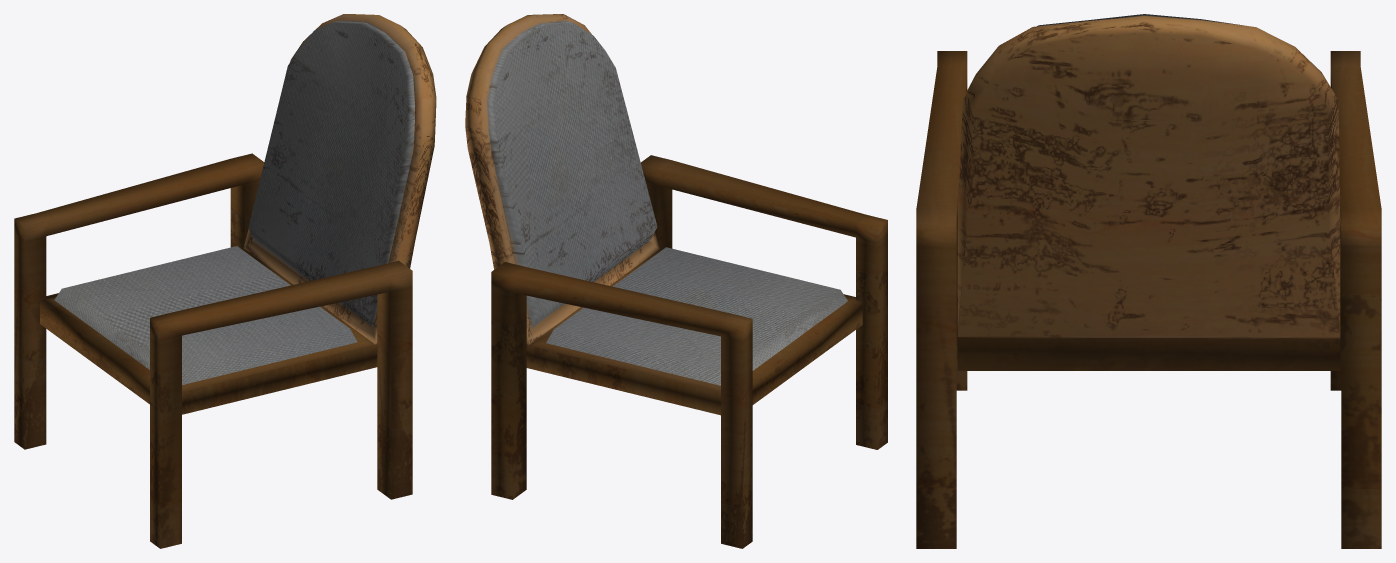
The model's file is room_chair.fbx.
The picture shows the model from 3 angles, left to right: view 1: azimuth 30°, elevation 25°; view 2: azimuth 150°, elevation 25°; view 3: azimuth 270°, elevation 25°; orthographic projection. The views are drawn at different scales.
Visible parts, largest first — view 1: polySurface196; view 2: polySurface196; view 3: polySurface196.
Part boxes in pixels (x1,y1,x2,y2): polySurface196: [14, 14, 436, 548]; polySurface196: [465, 14, 887, 548]; polySurface196: [916, 14, 1381, 548].
Size of the model in its own units: 5.89 by 7.04 by 5.17.
